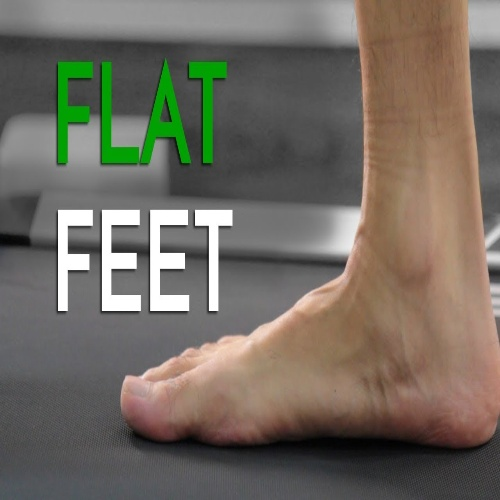Top_Foot: (119, 318, 500, 449)
